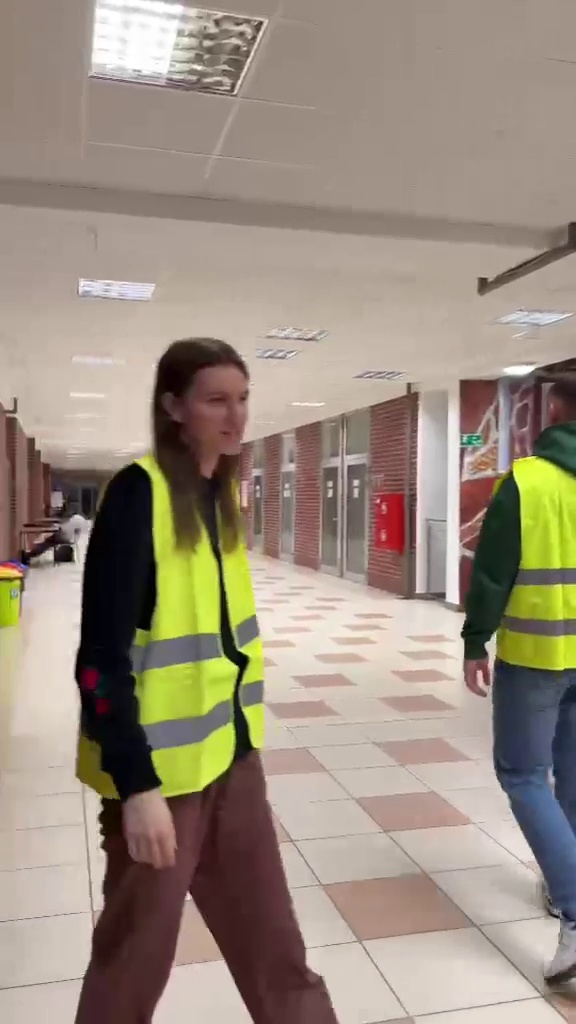vest: (60, 338, 365, 1021), (471, 371, 576, 987)
